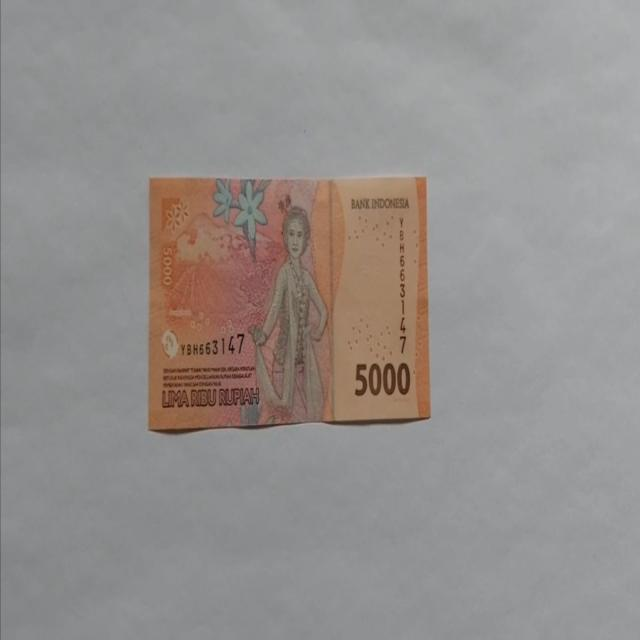lima ribu rupiah: (147, 173, 430, 432), (246, 204, 330, 425)
